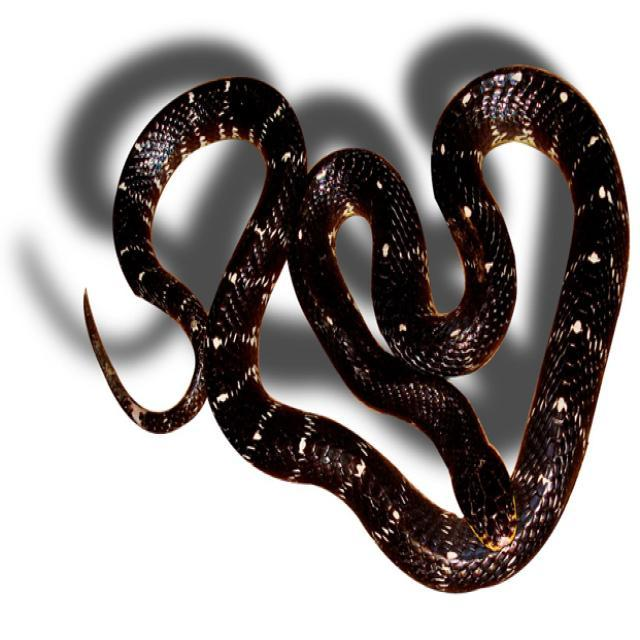Snake: (81, 61, 630, 594)
